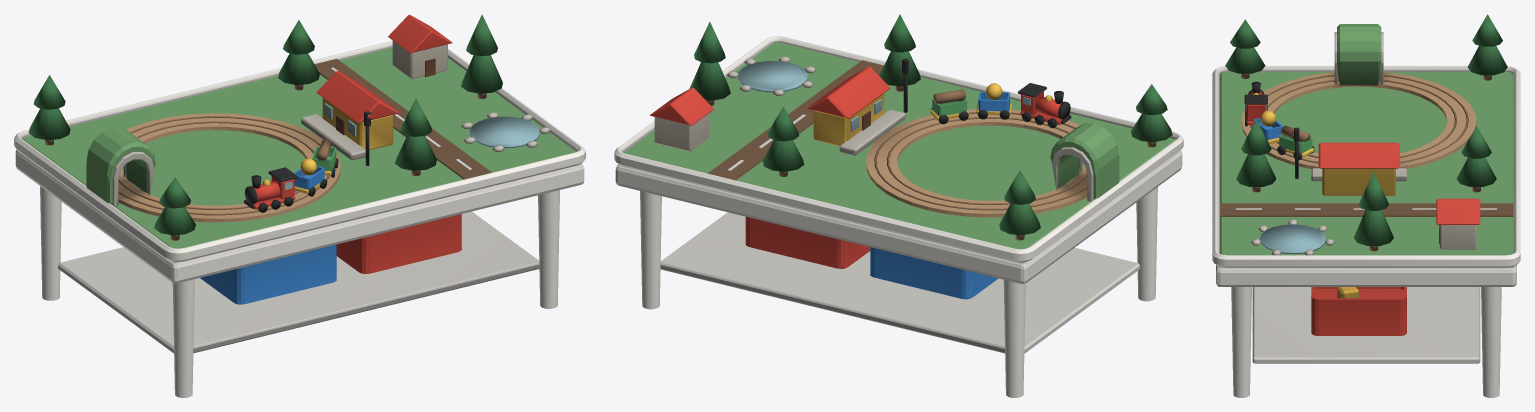
File: trainTable.glb
3 views of the same model, side by side, from view 1: azimuth 30°, elevation 25°; view 2: azimuth 150°, elevation 25°; view 3: azimuth 270°, elevation 25° (orthographic). The views are drawn at different scales.
Parts seen in each view (by area): view 1: body, train; view 2: body, train; view 3: body, train.
Boxes of the visible parts, x1,y1,x2,y2 form: body: [14, 14, 585, 397]; train: [244, 139, 338, 212]; body: [614, 14, 1183, 397]; train: [930, 83, 1071, 128]; body: [1212, 14, 1520, 397]; train: [1244, 81, 1314, 159].
Bounding box in the file's own units: 1.24 × 0.675 × 0.84.
